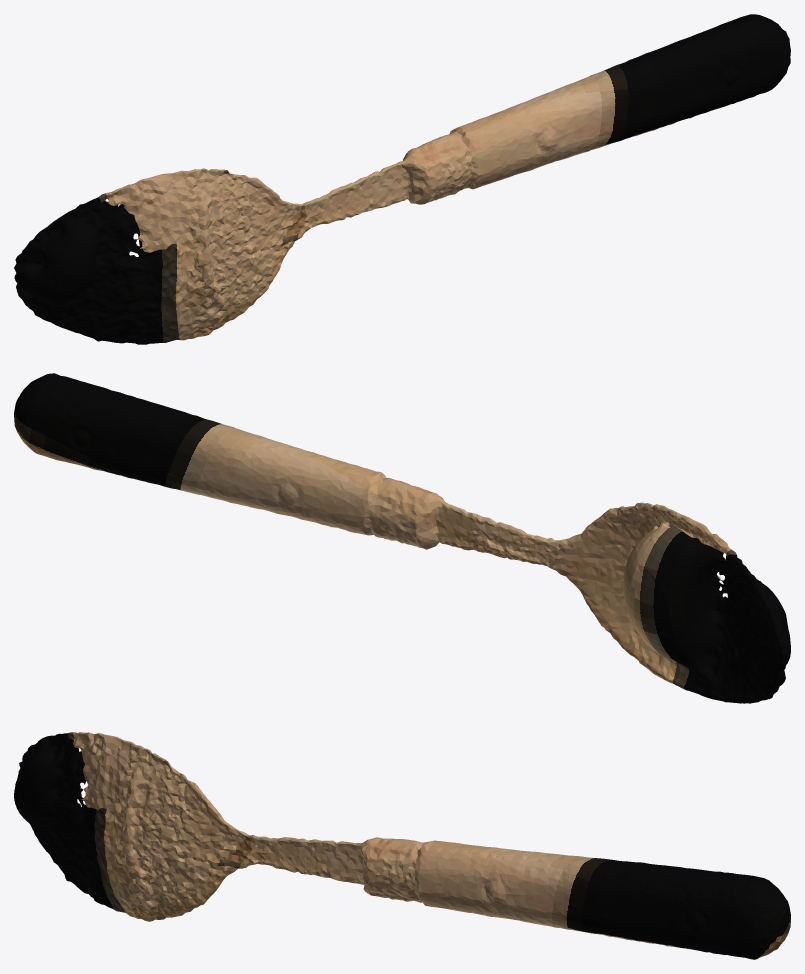
3 renders of one model, top to bottom at view 1: azimuth 30°, elevation 25°; view 2: azimuth 150°, elevation 25°; view 3: azimuth 330°, elevation 25°, orthographic. The views are drawn at different scales.
Bounding box in the file's own units: 0.1953 × 0.0417 × 0.0209.
